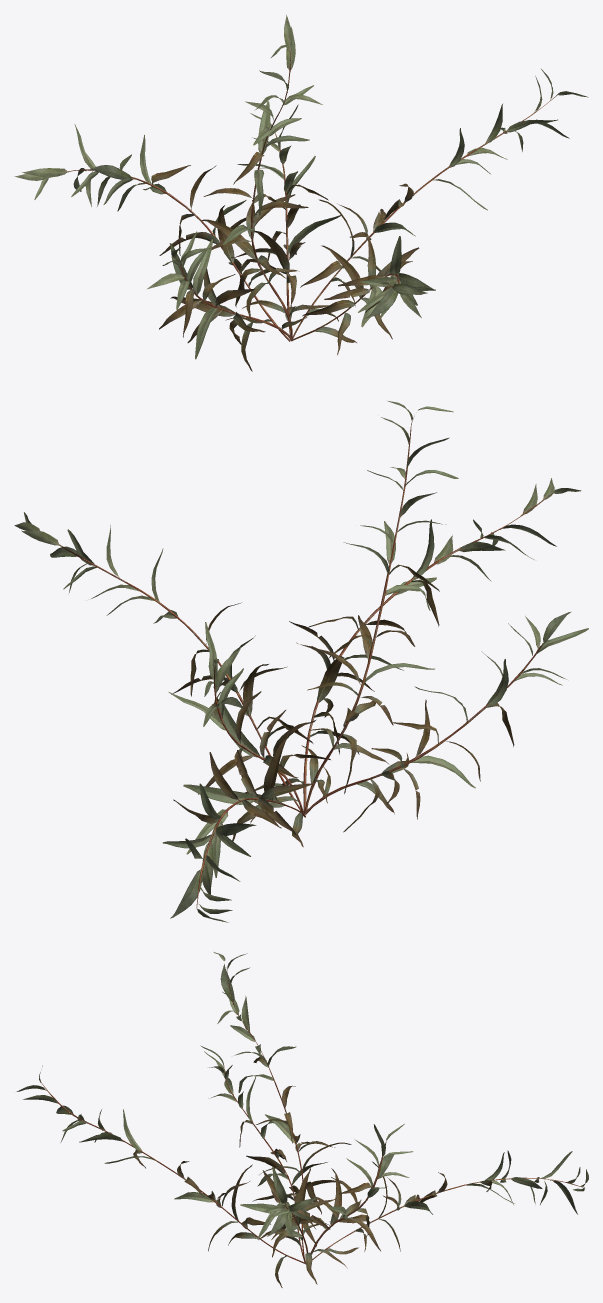
File: shrub_02.glb
The picture shows the model from 3 angles, top to bottom: view 1: azimuth 30°, elevation 25°; view 2: azimuth 150°, elevation 25°; view 3: azimuth 270°, elevation 25°; orthographic projection. The views are drawn at different scales.
Parts seen in each view (by area): view 1: shrub_02_c; view 2: shrub_02_c; view 3: shrub_02_c.
Boxes of the visible parts, box(x1,y1,x2,y2) form: shrub_02_c: box(14, 15, 588, 371); shrub_02_c: box(14, 401, 588, 922); shrub_02_c: box(16, 952, 588, 1287).
Bounding box in the file's own units: 1.77 × 1.31 × 2.29.
Materials: 1 (1 with a texture image).
